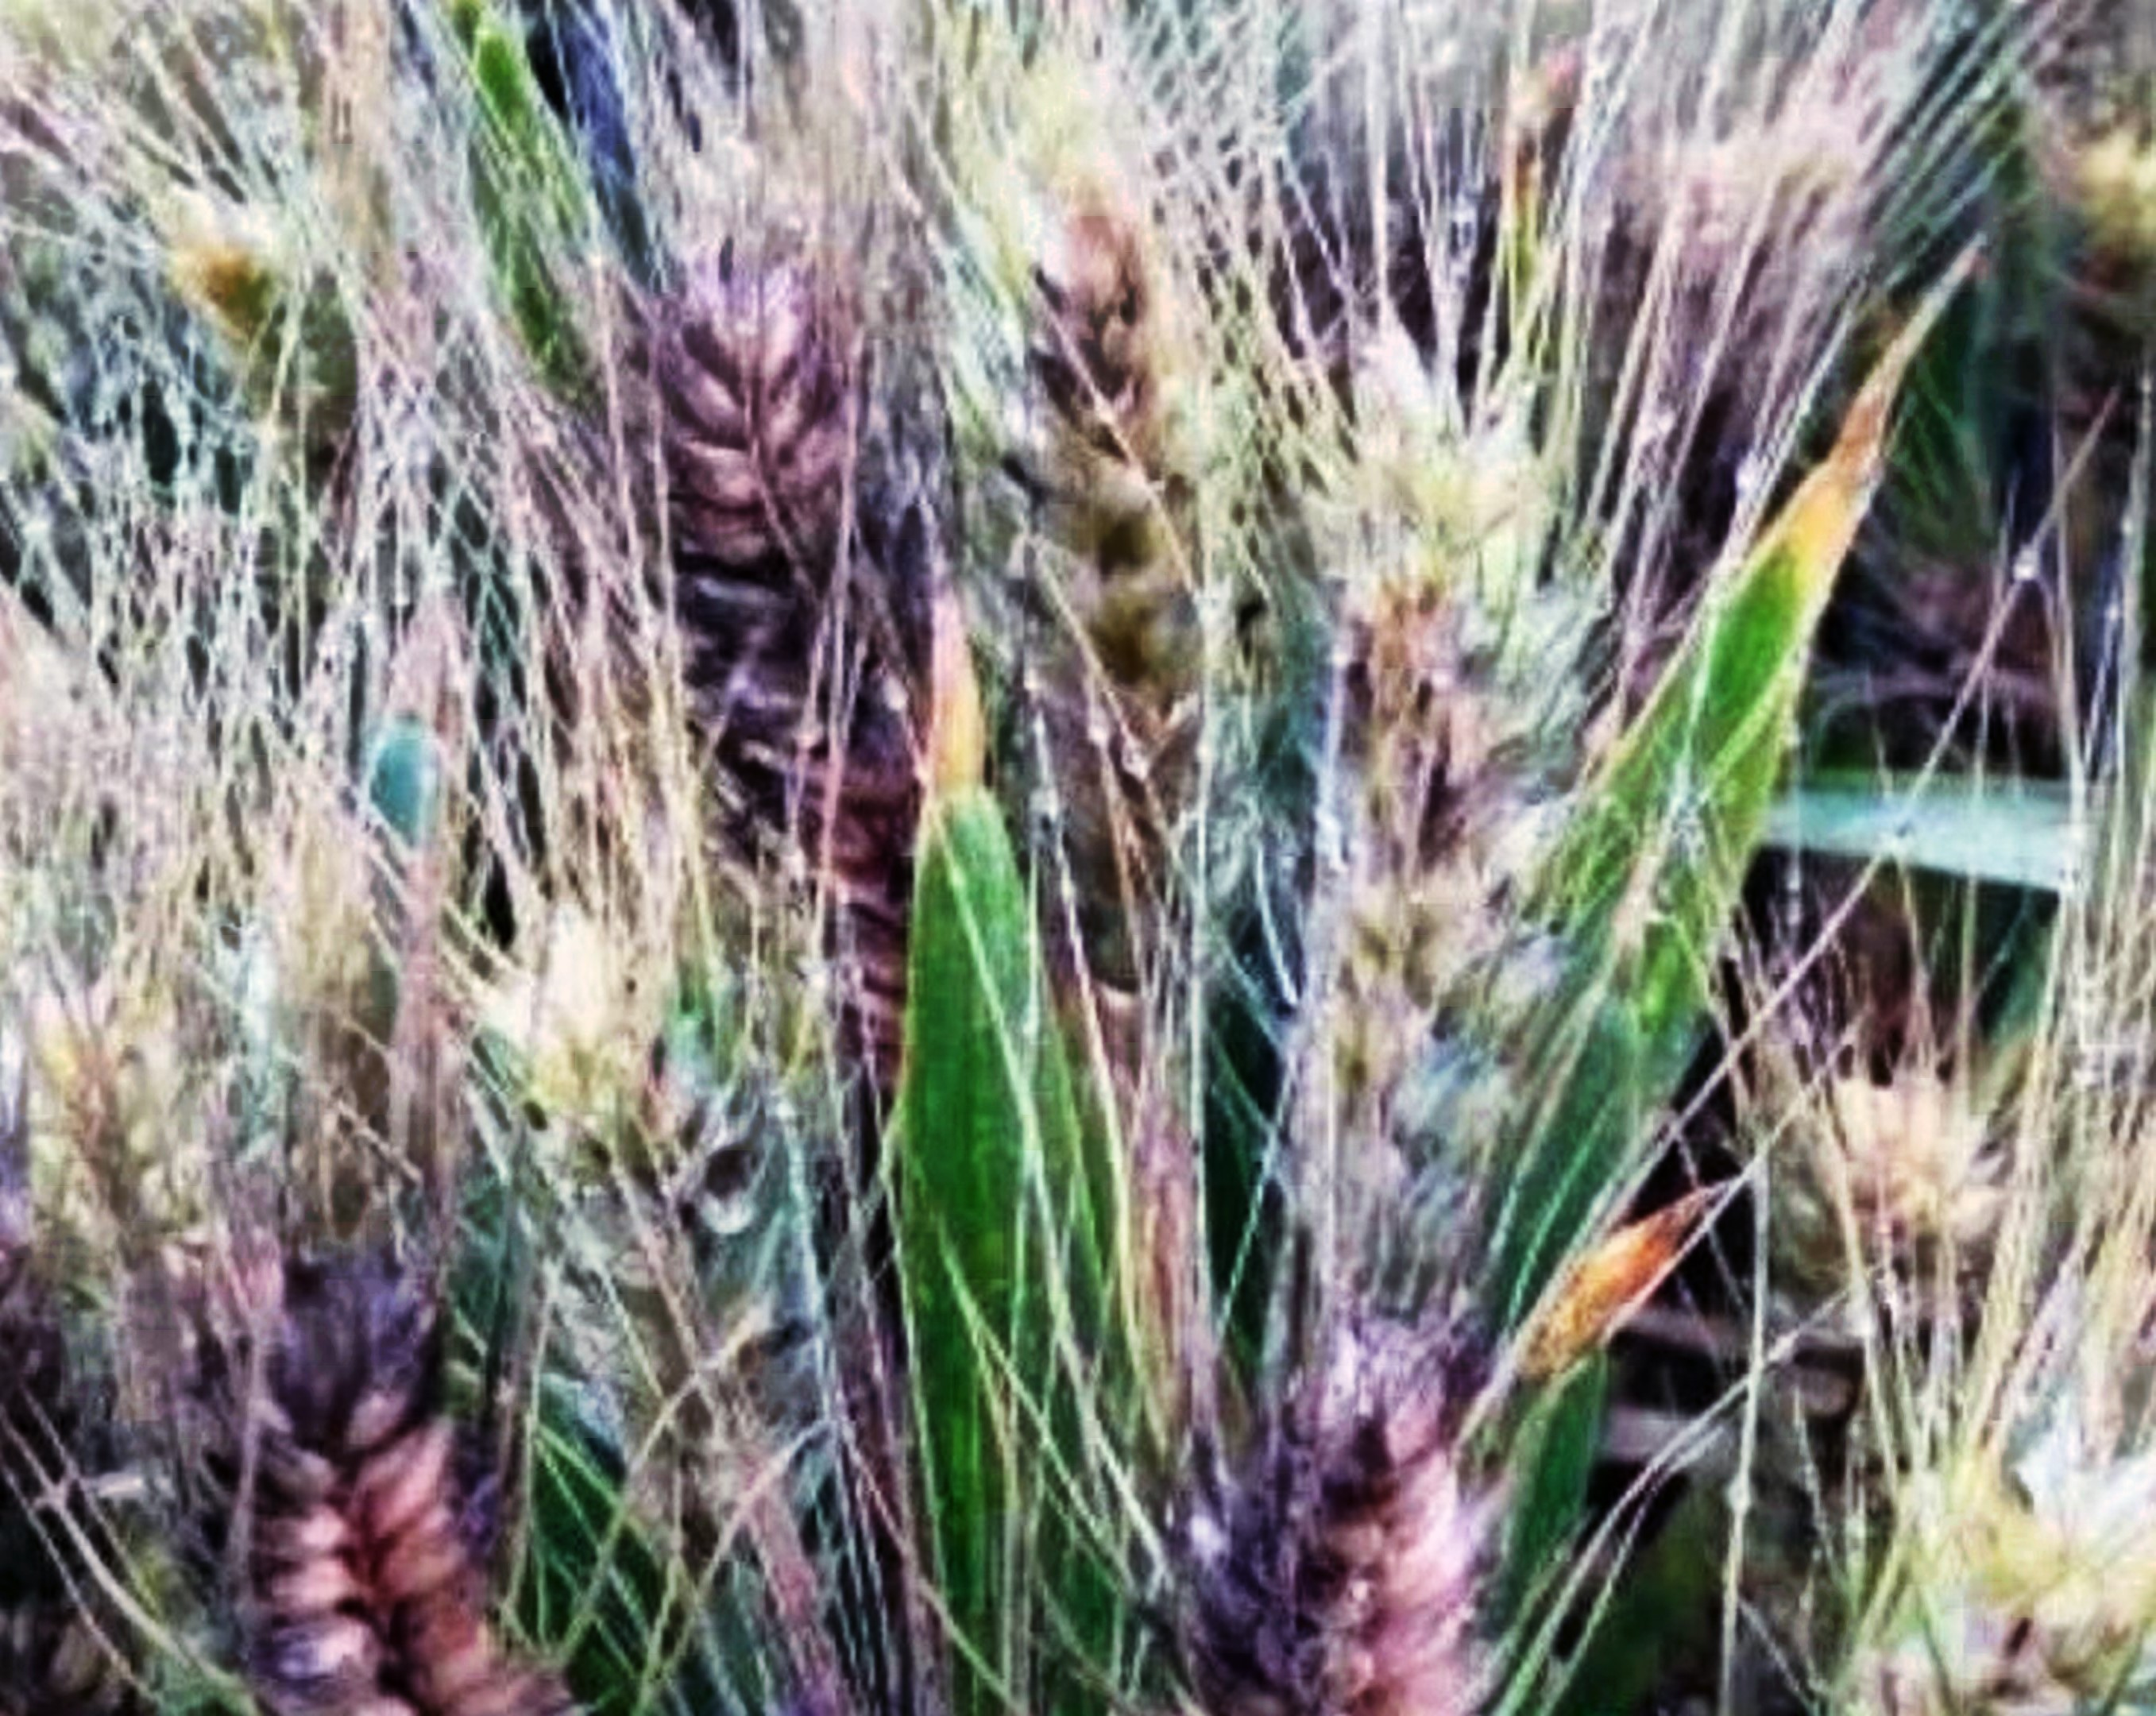Wheat scab: (609, 212, 946, 847), (180, 1303, 560, 1716)
